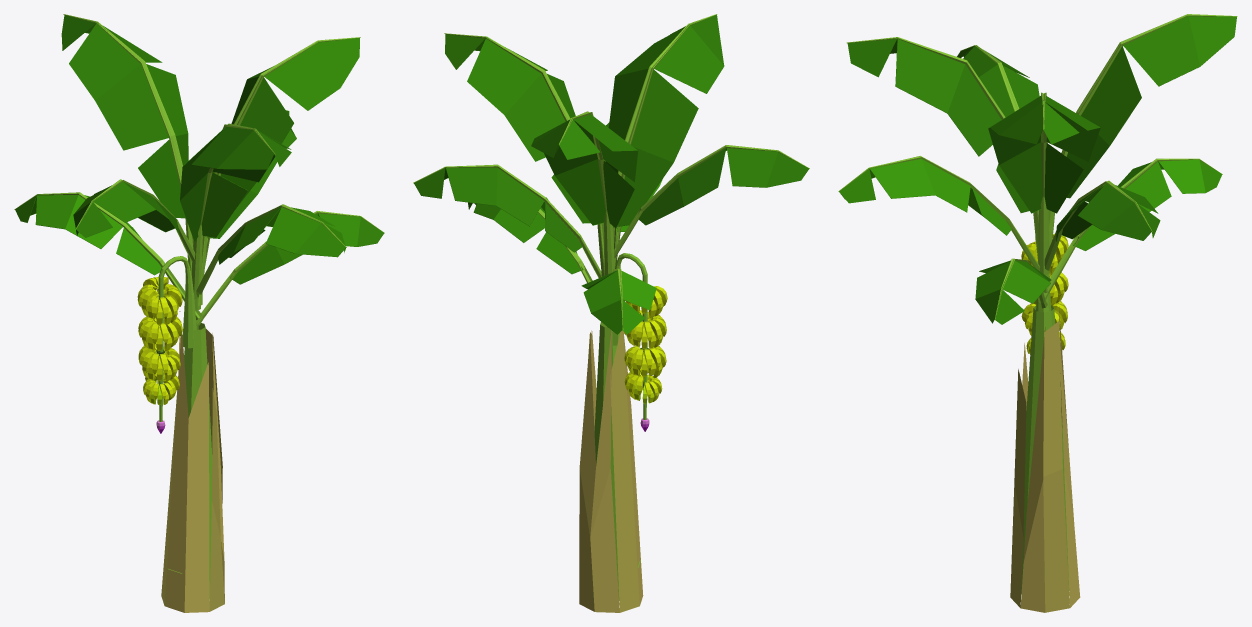
The model's file is bananatree2.fbx.
The picture shows the model from 3 angles, left to right: view 1: azimuth 30°, elevation 25°; view 2: azimuth 150°, elevation 25°; view 3: azimuth 270°, elevation 25°; orthographic projection. The views are drawn at different scales.
Parts seen in each view (by area): view 1: foglia1.001, Cylinder.010, foglia1.002, foglia1, foglia1.003, foglia1.006, foglia1.005, foglia1.007, Cylinder.013, Cylinder.011, Cylinder, Cylinder.003 (+9 smaller); view 2: foglia1.002, Cylinder.010, foglia1, foglia1.001, foglia1.005, Cylinder.014, foglia1.004, foglia1.006, foglia1.007, Cylinder.011, Cylinder.003, Cylinder.004 (+4 smaller); view 3: foglia1.001, foglia1, foglia1.002, Cylinder.010, Cylinder.012, foglia1.003, foglia1.004, foglia1.006, foglia1.007, Cylinder.011, Cylinder.013, foglia1.005 (+6 smaller).
Boxes of the visible parts, box(x1,y1,x2,y2) form: foglia1.001: box(61, 15, 188, 218); Cylinder.010: box(164, 333, 224, 612); foglia1.002: box(180, 126, 291, 241); foglia1: box(220, 38, 359, 208); foglia1.003: box(218, 207, 345, 264); foglia1.006: box(15, 194, 161, 275); foglia1.005: box(73, 181, 179, 237); foglia1.007: box(230, 213, 384, 284); Cylinder.013: box(209, 388, 224, 611); Cylinder.011: box(184, 322, 212, 599); Cylinder: box(158, 256, 196, 573); Cylinder.003: box(63, 14, 193, 273); foglia1.002: box(605, 14, 724, 227); Cylinder.010: box(579, 330, 643, 612); foglia1: box(445, 34, 590, 223); foglia1.001: box(531, 114, 637, 227); foglia1.005: box(638, 148, 808, 225); Cylinder.014: box(610, 330, 639, 612); foglia1.004: box(414, 166, 582, 252); foglia1.006: box(581, 270, 656, 334); foglia1.007: box(468, 197, 583, 274); Cylinder.011: box(594, 322, 619, 600); Cylinder.003: box(558, 111, 614, 275); Cylinder.004: box(613, 14, 717, 268); foglia1.001: box(1066, 15, 1236, 198); foglia1: box(988, 95, 1100, 213); foglia1.002: box(847, 37, 1029, 212); Cylinder.010: box(1020, 302, 1080, 612); Cylinder.012: box(1043, 321, 1069, 612); foglia1.003: box(839, 158, 1011, 235); foglia1.004: box(1056, 183, 1160, 242); foglia1.006: box(1073, 159, 1222, 250); foglia1.007: box(975, 260, 1051, 324); Cylinder.011: box(1021, 305, 1069, 593); Cylinder.013: box(1010, 369, 1026, 607); foglia1.005: box(957, 45, 1039, 116).
Bounding box in the file's own units: 1705 × 2683 × 1708.
